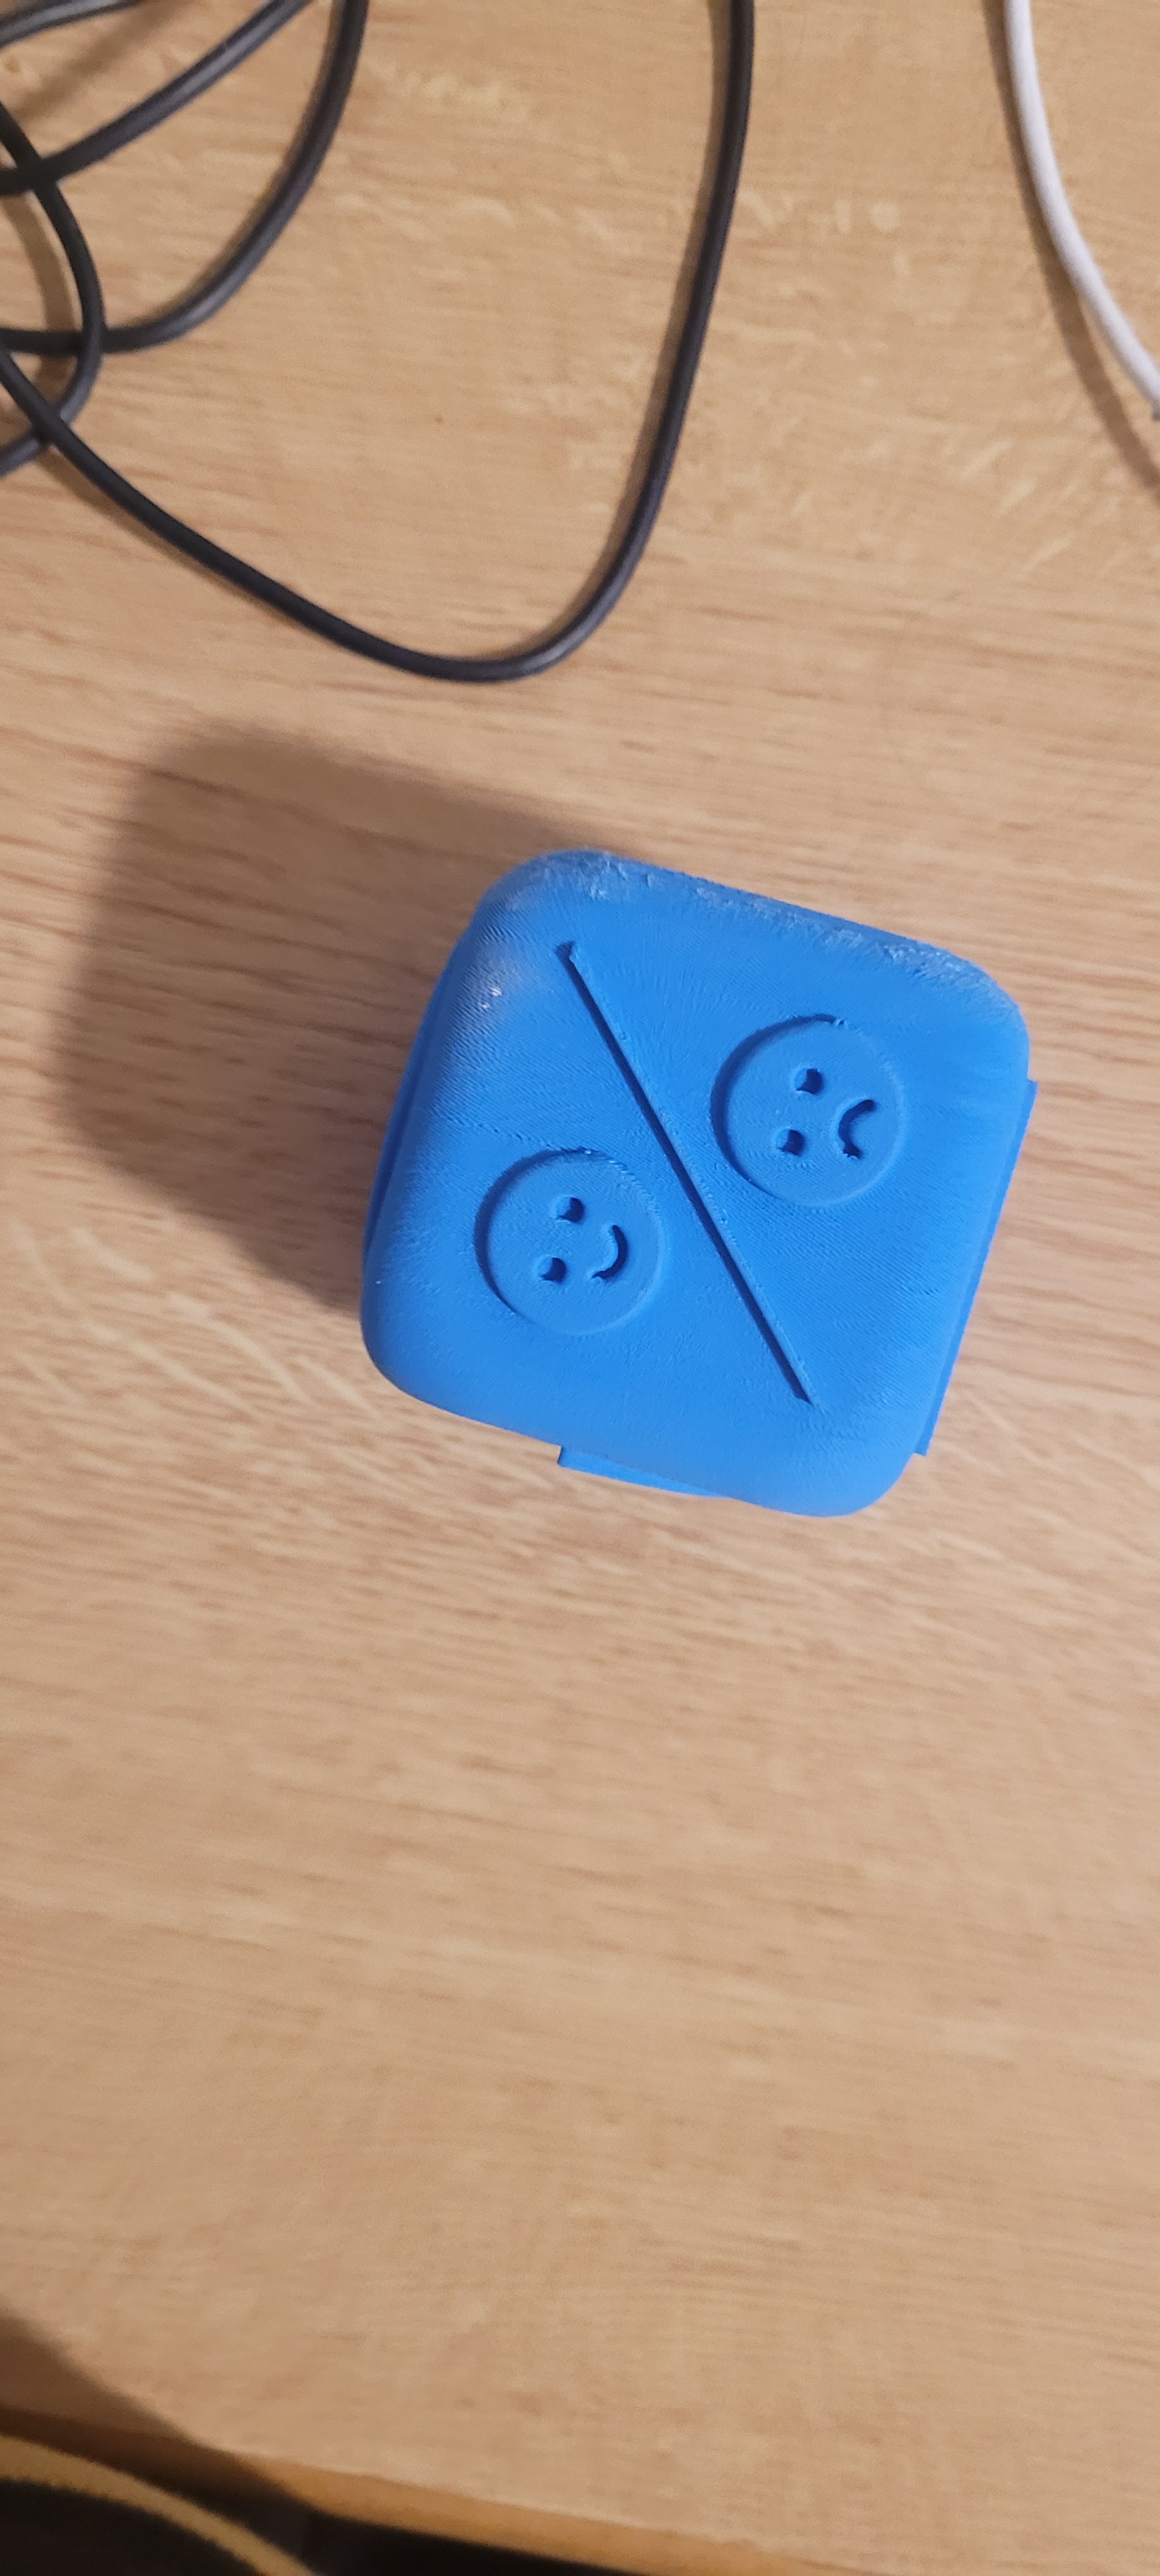Like/Dislike: (393, 974, 1056, 1388)
